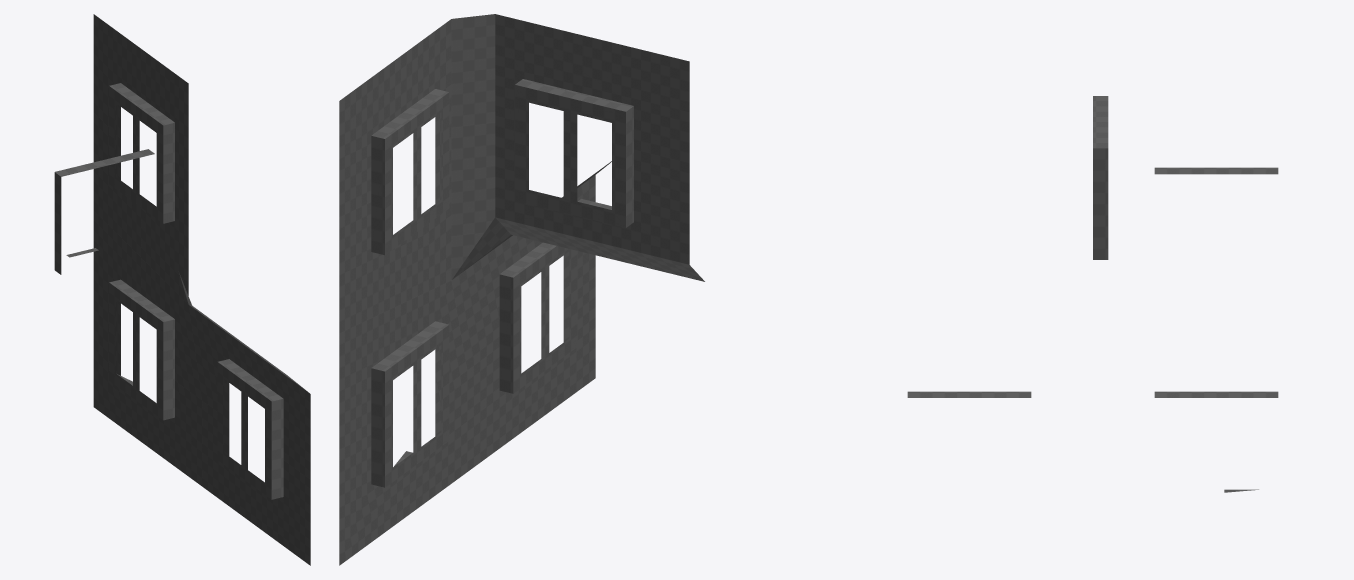
3 views of the same model, side by side, from view 1: azimuth 30°, elevation 25°; view 2: azimuth 150°, elevation 25°; view 3: azimuth 270°, elevation 25° (orthographic). The views are drawn at different scales.
Parts seen in each view (by area): view 1: CubeDownBackLeft2V4; view 2: CubeDownBackLeft2V4; view 3: CubeDownBackLeft2V4.
Part boxes in pixels (left/top/right/bottom): CubeDownBackLeft2V4: left=54, top=14, right=310, bottom=565; CubeDownBackLeft2V4: left=339, top=14, right=704, bottom=565; CubeDownBackLeft2V4: left=907, top=96, right=1278, bottom=492.
Size of the model in its own units: 2 by 4 by 4.
Materials: 1 (1 with a texture image).
